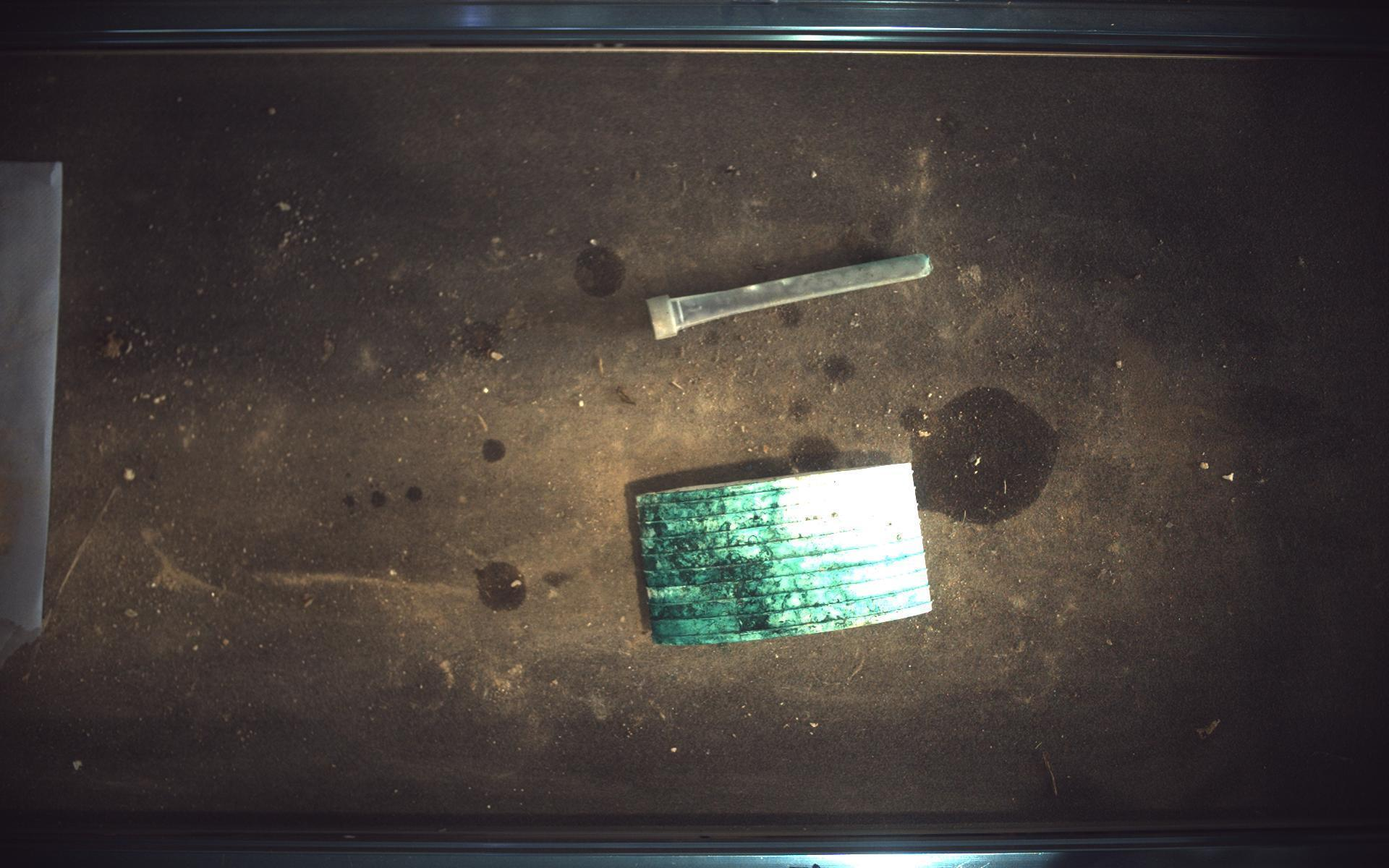plastic: (637, 464, 934, 646), (647, 254, 934, 339)
